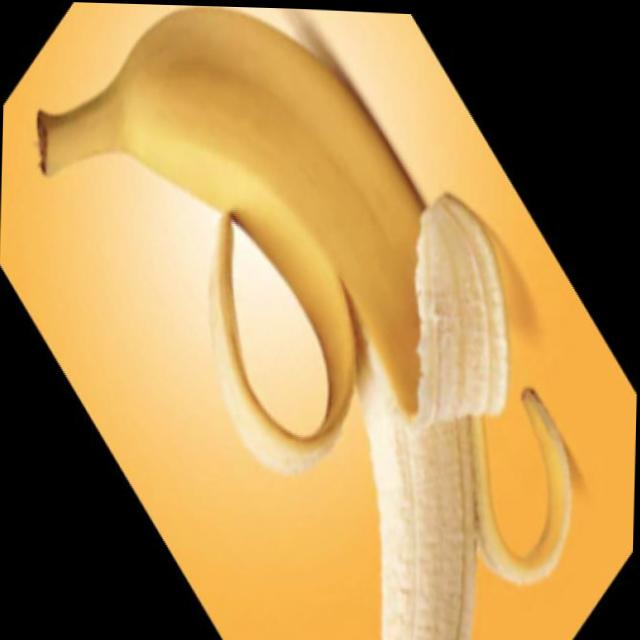Banana: (17, 0, 583, 640)
